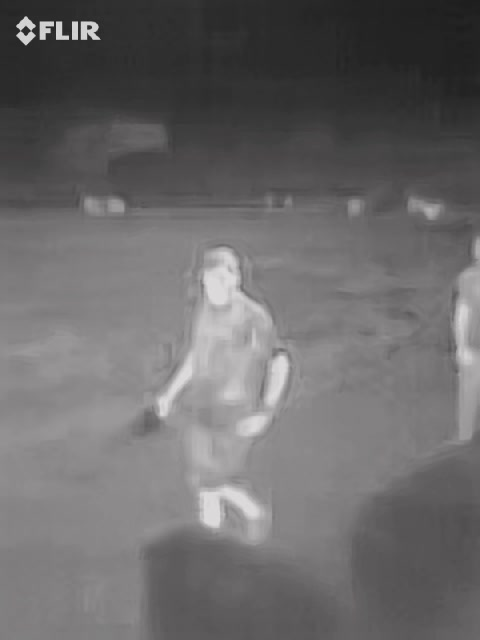head: (195, 245, 246, 310)
